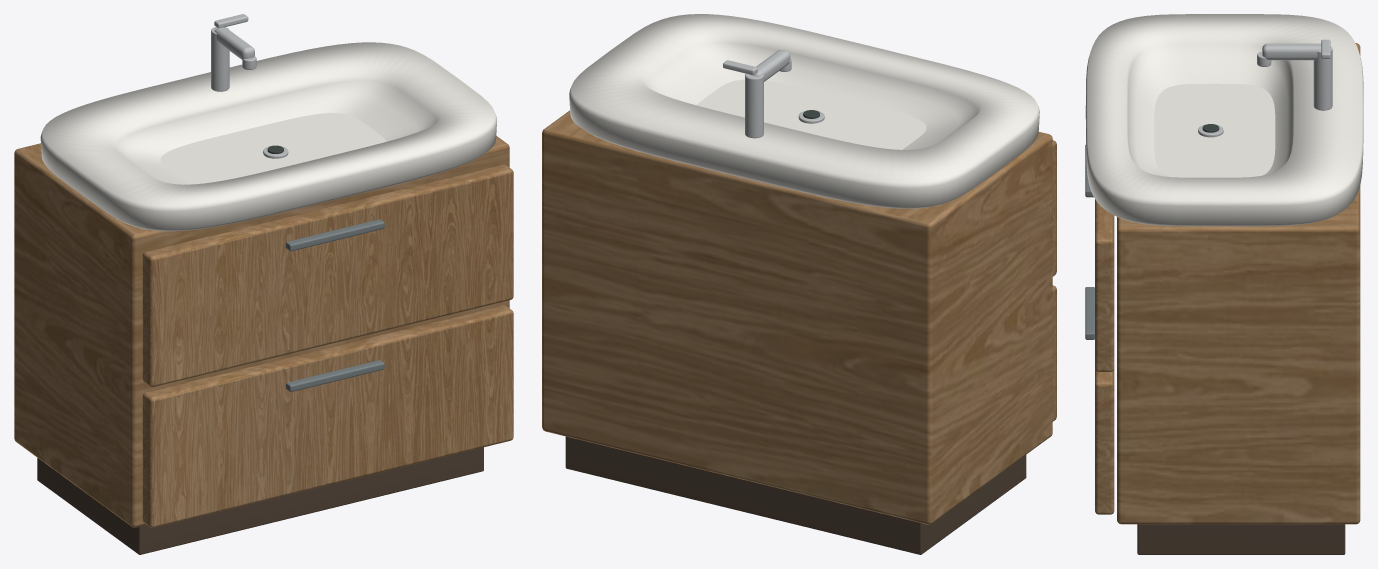
File: vanity.glb
The picture shows the model from 3 angles, left to right: view 1: azimuth 30°, elevation 25°; view 2: azimuth 150°, elevation 25°; view 3: azimuth 270°, elevation 25°; orthographic projection. The views are drawn at different scales.
Parts seen in each view (by area): view 1: Cabinet, Integrated basin and countertop, Recessed kick, Waste fitting, Drawer pull; view 2: Cabinet, Integrated basin and countertop, Recessed kick, Waste fitting; view 3: Cabinet, Integrated basin and countertop, Recessed kick, Waste fitting, Drawer pull.
Part boxes in pixels (x1,y1,x2,y2): Cabinet: [14, 136, 513, 527]; Integrated basin and countertop: [40, 42, 496, 231]; Recessed kick: [37, 447, 483, 554]; Waste fitting: [211, 14, 288, 158]; Drawer pull: [286, 219, 384, 391]; Cabinet: [542, 110, 1056, 524]; Integrated basin and countertop: [569, 14, 1039, 208]; Recessed kick: [565, 436, 1026, 554]; Waste fitting: [723, 50, 824, 138]; Cabinet: [1095, 43, 1360, 524]; Integrated basin and countertop: [1085, 14, 1363, 226]; Recessed kick: [1137, 524, 1345, 554]; Waste fitting: [1198, 39, 1332, 137]; Drawer pull: [1085, 145, 1094, 339].
Size of the model in its own units: 0.8 by 0.8525 by 0.501.
Materials: 6 (1 with a texture image).
